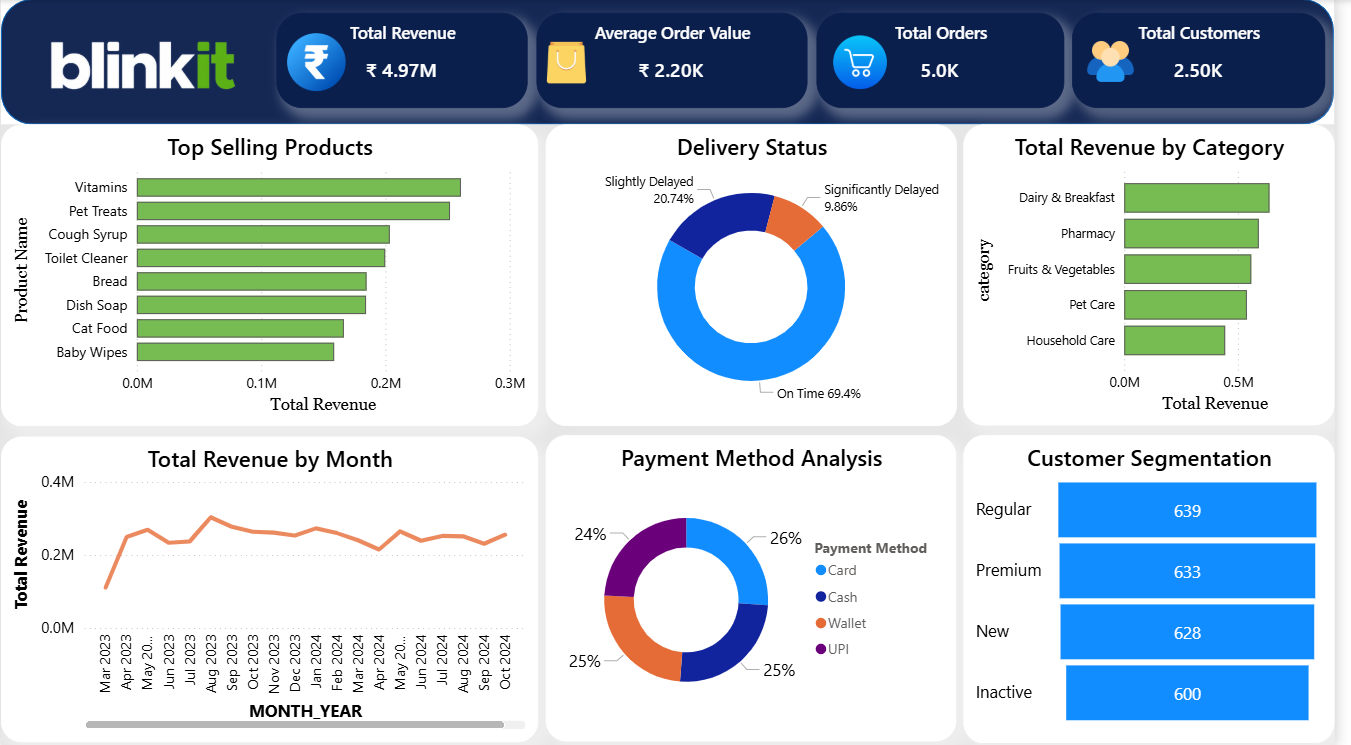

The dashboard page shown, as its layout file describes it:
{"tool":"powerbi","page":{"name":"Executive dashboard","canvas":[1280,720],"ordinal":0},"visuals":[{"type":"shape","box":[0,0,1279.5,120.5],"z":0},{"type":"cardVisual","title":"Total Revenue","fields":{"Data":["Sum(SALES_SUMMARY.TOTAL_REVENUE)"]},"box":[263.8,13.8,241.4,91.4],"z":1500},{"type":"cardVisual","title":"Average Order Value","fields":{"Data":["Sum(SALES_SUMMARY.AVERAGE_OREDER_VALUE)"]},"box":[513.7,13.7,260,91.6],"z":1501},{"type":"cardVisual","title":"Total Orders","fields":{"Data":["Sum(SALES_SUMMARY.TOTAL_ORDERS)"]},"box":[782.8,13.8,237.9,91.4],"z":1502},{"type":"cardVisual","title":"Total Customers","fields":{"Data":["Measures_table.Total_customers"]},"box":[1027.6,13.8,243.1,91.4],"z":1503},{"type":"image","box":[22.4,13.8,227.6,93.1],"z":1504},{"type":"barChart","title":"Top Selling Products","fields":{"Category":["TOP_SELLING_PRODUCTS.PRODUCT_NAME"],"Y":["Sum(TOP_SELLING_PRODUCTS.TOTAL_REVENUE)"]},"box":[0,120.7,515.5,289.7],"z":1505},{"type":"lineChart","title":"Total Revenue by Month","fields":{"Y":["Measures_table.Total Revenue"],"Category":["DATE TABLE.MONTH_YEAR"]},"box":[0,420.5,515.9,293.2],"z":1506},{"type":"donutChart","title":"Delivery Status","fields":{"Category":["DELIVERY_KPI_VIEW.DELIVERY_STATUS"],"Y":["Sum(DELIVERY_KPI_VIEW.TOTAL_ORDERS)"]},"box":[522.4,120.7,394.8,289.7],"z":1507},{"type":"barChart","title":"Total Revenue by Category","fields":{"Y":["Measures_table.Total Revenue"],"Category":["products.category"]},"box":[923.3,120.5,356.2,289],"z":1508},{"type":"donutChart","title":"Payment Method Analysis","fields":{"Y":["Sum(PAYMENT_METHOD_VIEW.TOTAL_AMOUNT)"],"Category":["PAYMENT_METHOD_VIEW.PAYMENT_METHOD"],"Series":["PAYMENT_METHOD_VIEW.TOTAL_ORDERS"]},"box":[523.1,419.2,394.2,294.2],"z":1509},{"type":"funnel","title":"Customer Segmentation","fields":{"Category":["CUSTOMER_SEGMENTATION.CUSTOMER_SEGMENT"],"Y":["Sum(CUSTOMER_SEGMENTATION.TOTAL_CUSTOMERS)"]},"box":[923.3,419.2,356.2,295.9],"z":1510},{"type":"image","box":[275.3,24.7,56.2,71.2],"z":1511},{"type":"image","box":[1027.4,34.2,74,52],"z":1512},{"type":"image","box":[791.6,31.6,66.3,56.8],"z":1513},{"type":"image","box":[523.2,34.7,40,51.6],"z":1514}]}

Visuals, with their boxes in screenshot pixels (x1, y1, x2, y2), scaled from the page's 1280x720 canvas onto the 1351x745 screenshot:
shape: crop(0, 0, 1350, 125)
"Total Revenue" cardVisual: crop(278, 14, 533, 109)
"Average Order Value" cardVisual: crop(542, 14, 817, 109)
"Total Orders" cardVisual: crop(826, 14, 1077, 109)
"Total Customers" cardVisual: crop(1085, 14, 1341, 109)
image: crop(24, 14, 264, 111)
"Top Selling Products" barChart: crop(0, 125, 544, 425)
"Total Revenue by Month" lineChart: crop(0, 435, 545, 738)
"Delivery Status" donutChart: crop(551, 125, 968, 425)
"Total Revenue by Category" barChart: crop(975, 125, 1350, 424)
"Payment Method Analysis" donutChart: crop(552, 434, 968, 738)
"Customer Segmentation" funnel: crop(975, 434, 1350, 740)
image: crop(291, 26, 350, 99)
image: crop(1084, 35, 1162, 89)
image: crop(836, 33, 905, 91)
image: crop(552, 36, 594, 89)
